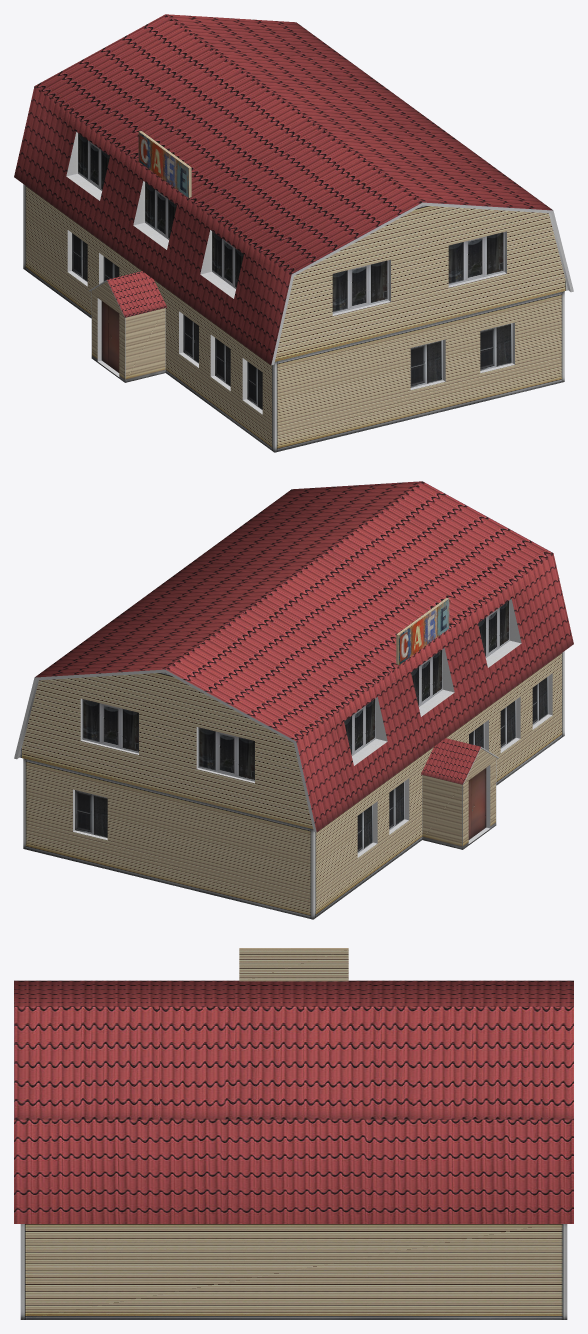
File: r402_ravnec_kafe.FBX
3 views of the same model, one above another, from view 1: azimuth 30°, elevation 25°; view 2: azimuth 150°, elevation 25°; view 3: azimuth 270°, elevation 25° (orthographic). The views are drawn at different scales.
Visible parts, largest first — view 1: r402_ravnec_kafe; view 2: r402_ravnec_kafe; view 3: r402_ravnec_kafe.
Part boxes in pixels (box(x1,y1,x2,y2)): r402_ravnec_kafe: box(14, 14, 573, 452); r402_ravnec_kafe: box(14, 481, 573, 919); r402_ravnec_kafe: box(14, 948, 573, 1319).
Bounding box in the file's own units: 1167 × 1536 × 715.
